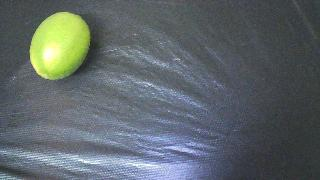LOCAL: (30, 12, 91, 80)
